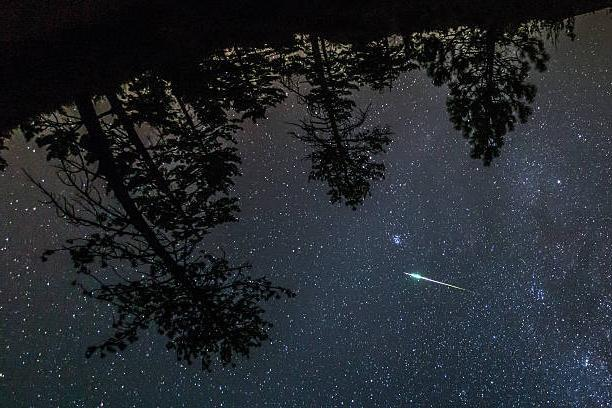meteorite: (390, 266, 487, 298)
